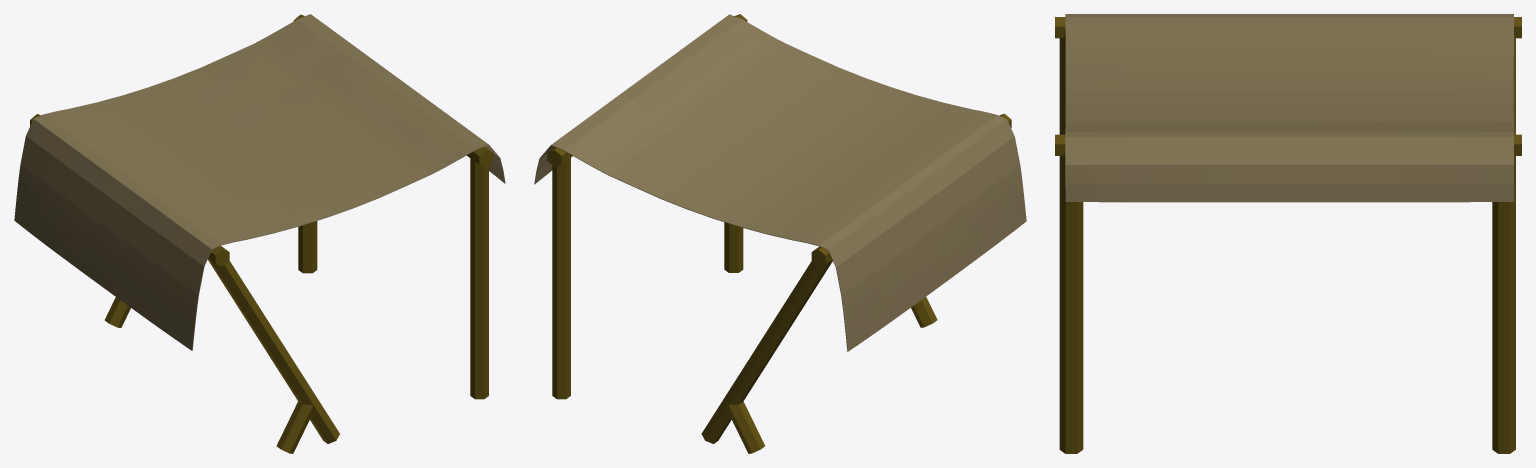
Rendered from Market Shelter withColour.fbx.
3 renders of one model, left to right at view 1: azimuth 30°, elevation 25°; view 2: azimuth 150°, elevation 25°; view 3: azimuth 270°, elevation 25°, orthographic. The views are drawn at different scales.
Parts seen in each view (by area): view 1: Plane, Cylinder; view 2: Plane, Cylinder; view 3: Plane, Cylinder.
Boxes of the visible parts, <box> form: Plane: <box>14,14,505,350</box>; Cylinder: <box>30,14,493,453</box>; Plane: <box>534,14,1026,351</box>; Cylinder: <box>547,14,1011,453</box>; Plane: <box>1065,14,1513,202</box>; Cylinder: <box>1055,17,1521,453</box>.
Size of the model in its own units: 587 by 462 by 594.
